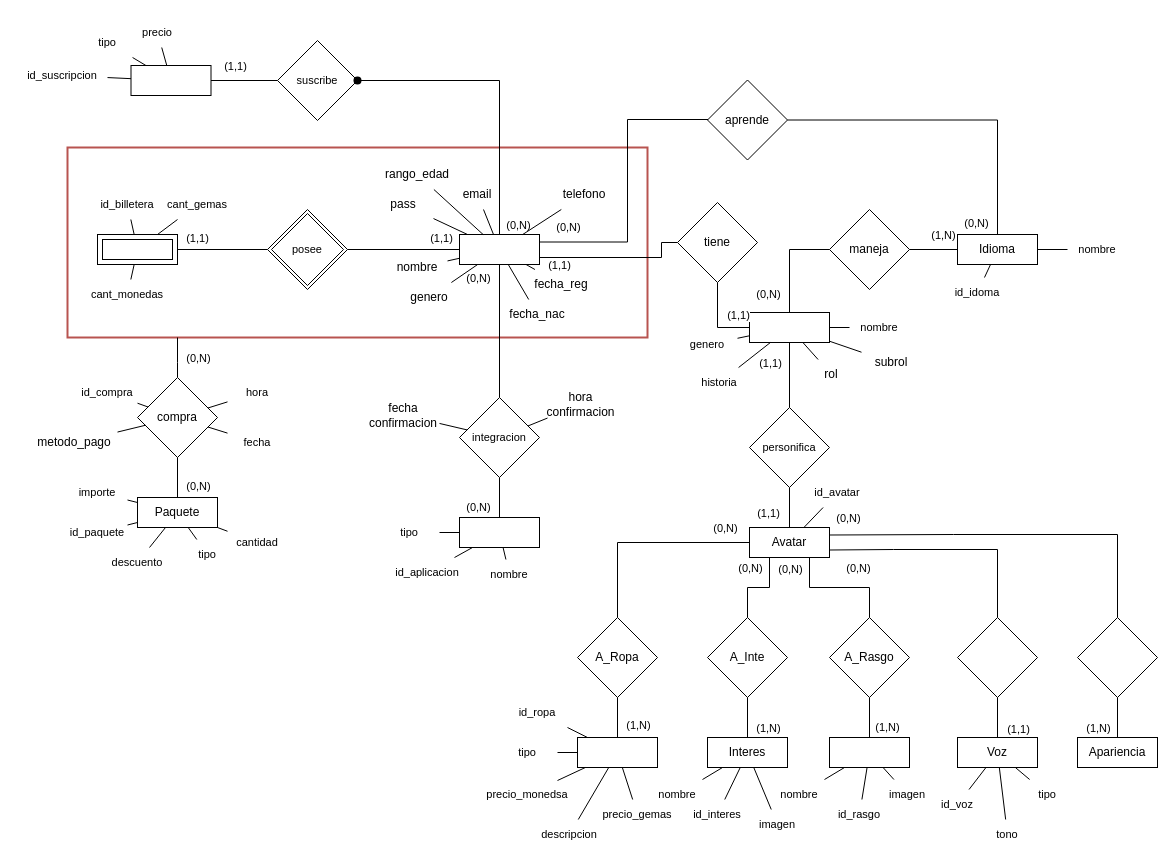
Image size: 1175x866. Some labels were removed from this diagram. Here are the shapes that lost their labels. From the top down, the centre of each, then its label:
At point (170, 80): "Suscripción".
At point (137, 249): "Billetera".
At point (499, 249): "Usuario".
At point (789, 327): "Asistente Virtual".
At point (499, 532): "Aplicación".
At point (997, 657): "A_Voz".
At point (1117, 657): "A_Apa".
At point (617, 752): "Ropa".
At point (869, 752): "Rasgo".
